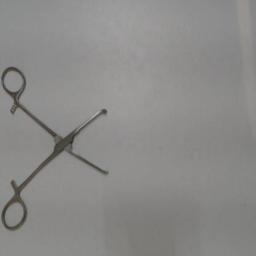Allis Tissue Forceps: (0, 64, 114, 234)
